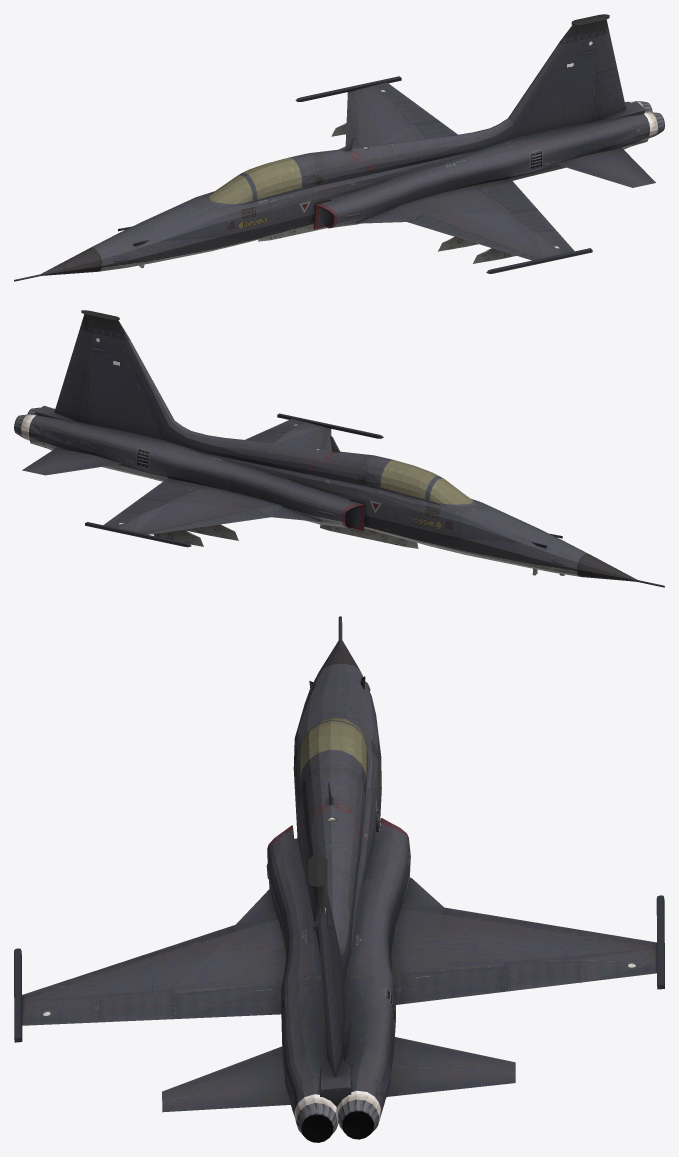
File: Tiger3.obj
3 views of the same model, one above another, from view 1: azimuth 30°, elevation 25°; view 2: azimuth 150°, elevation 25°; view 3: azimuth 270°, elevation 25° (orthographic). The views are drawn at different scales.
Parts seen in each view (by area): view 1: LOD0, ElevatorL01, Glass_Canopy01, VoletL01, RudderL01, FlapL01, Canopy01, Glass01, AileronR01, AileronL01, VoletR01, FlapR01; view 2: LOD0, ElevatorR01, Glass_Canopy01, RudderL01, VoletR01, Canopy01, Glass01, FlapR01, AileronR01; view 3: LOD0, ElevatorR01, ElevatorL01, FlapL01, FlapR01, AileronL01, AileronR01, Glass_Canopy01, Canopy01, VoletR01, VoletL01, EngineR01 (+2 smaller).
Part boxes in pixels (x1,y1,x2,y2): LOD0: [14, 14, 657, 281]; ElevatorL01: [556, 147, 655, 187]; Glass_Canopy01: [242, 157, 301, 199]; VoletL01: [407, 214, 538, 260]; RudderL01: [595, 65, 625, 115]; FlapL01: [476, 180, 537, 212]; Canopy01: [240, 153, 315, 205]; Glass01: [209, 175, 252, 203]; AileronR01: [392, 101, 438, 124]; AileronL01: [508, 209, 556, 232]; VoletR01: [345, 90, 360, 147]; FlapR01: [414, 121, 457, 138]; LOD0: [21, 310, 664, 587]; ElevatorR01: [22, 447, 121, 475]; Glass_Canopy01: [380, 460, 438, 499]; RudderL01: [55, 365, 87, 417]; VoletR01: [140, 509, 270, 534]; Canopy01: [368, 455, 441, 505]; Glass01: [429, 478, 472, 504]; FlapR01: [140, 479, 201, 501]; AileronR01: [121, 498, 169, 513]; LOD0: [14, 616, 664, 1132]; ElevatorR01: [386, 1037, 515, 1096]; ElevatorL01: [162, 1046, 290, 1112]; FlapL01: [173, 984, 278, 1018]; FlapR01: [400, 966, 504, 1004]; AileronL01: [96, 989, 173, 1022]; AileronR01: [504, 959, 581, 991]; Glass_Canopy01: [300, 721, 366, 777]; Canopy01: [297, 720, 372, 794]; VoletR01: [443, 907, 656, 947]; VoletL01: [22, 925, 235, 999]; EngineR01: [338, 1099, 378, 1139].
Bounding box in the file's own units: 14.81 × 3.46 × 7.77.
Materials: 4 (4 with a texture image).
